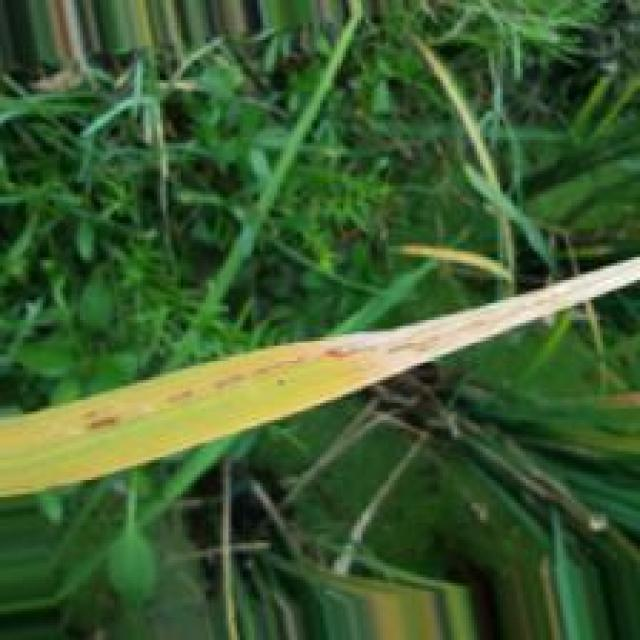Narrow_Brown_Leaf_Spot: (62, 255, 640, 441)
